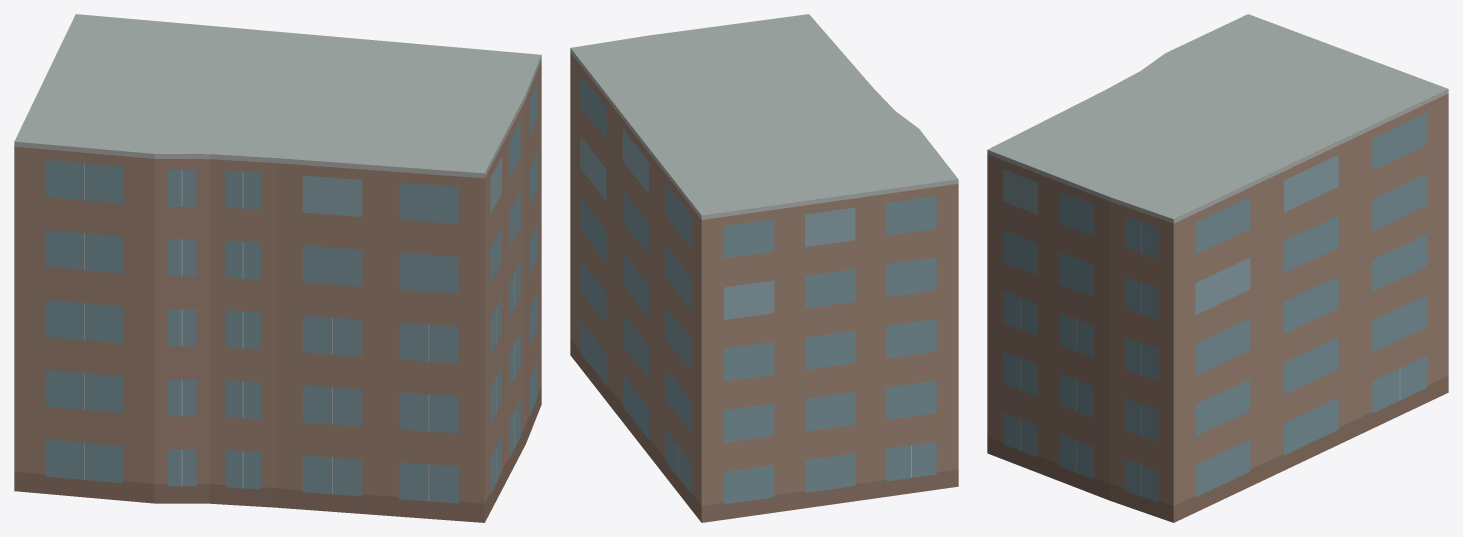
The model's file is survey-upis-32930110.glb.
3 views of the same model, side by side, from view 1: azimuth 30°, elevation 25°; view 2: azimuth 150°, elevation 25°; view 3: azimuth 270°, elevation 25° (orthographic). The views are drawn at different scales.
Visible parts, largest first — view 1: survey-upis-32930110.tmp; view 2: survey-upis-32930110.tmp; view 3: survey-upis-32930110.tmp.
Boxes of the visible parts, left/top/right/bottom form: survey-upis-32930110.tmp: left=14, top=14, right=541, bottom=522; survey-upis-32930110.tmp: left=570, top=14, right=958, bottom=522; survey-upis-32930110.tmp: left=987, top=14, right=1448, bottom=522.
Size of the model in its own units: 24.67 by 17 by 23.42.
